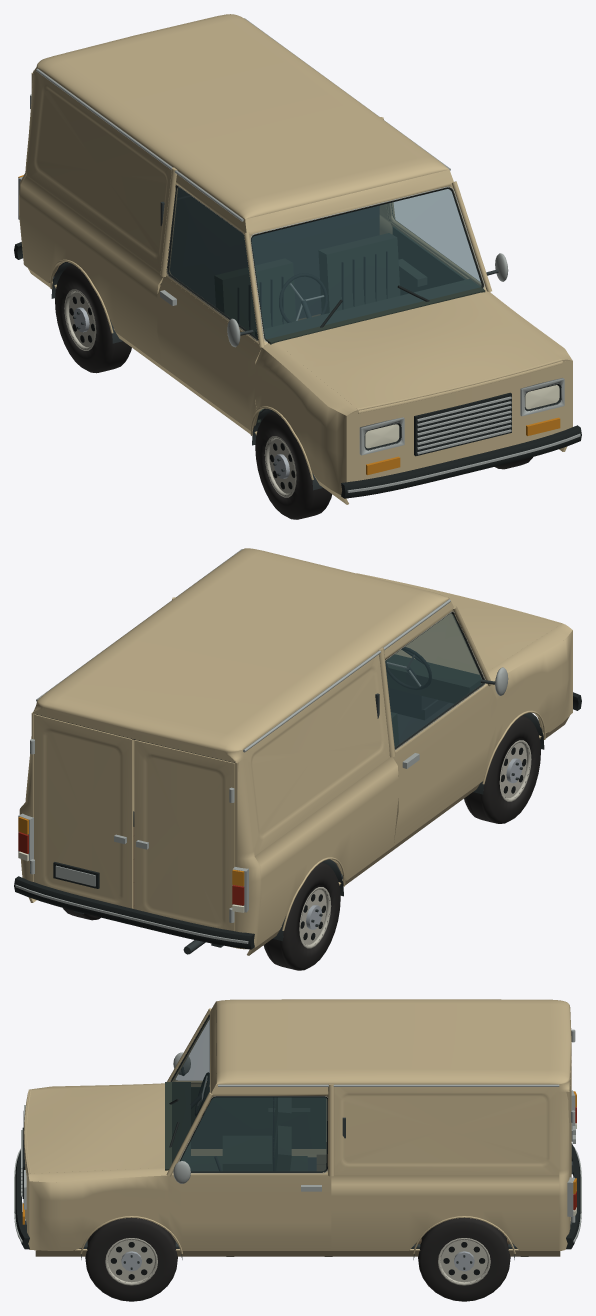
Rendered from van-candidate.glb.
The picture shows the model from 3 angles, top to bottom: view 1: azimuth 30°, elevation 25°; view 2: azimuth 150°, elevation 25°; view 3: azimuth 270°, elevation 25°; orthographic projection. The views are drawn at different scales.
Visible parts, largest first — view 1: panel_RoofVan, glass_FrontVan, panel_hoodVan, panel_CargoBlankVanL, panel_CargoSideVanL, Structure cab bulkhead Van, panel_FrontValanceVan, panel_BodyDoorLVanSkin, glass_BodyDoorLVan, panel_FrontWingVanL, Interior Carrier seat back 1, Interior Carrier seat back -1 (+22 smaller); view 2: panel_RoofVan, panel_CargoDoorVanLStamping, panel_CargoDoorVanRStamping, panel_CargoBlankVanL, panel_CargoSideVanL, panel_BodyDoorLVanSkin, glass_BodyDoorLVan, panel_hoodVan, panel_FrontWingVanL, panel_bumper_rearVan, Tire_Rook_RL, Tire_Rook_FL (+16 smaller); view 3: panel_RoofVan, panel_CargoBlankVanR, panel_CargoSideVanR, panel_BodyDoorRVanSkin, panel_hoodVan, glass_BodyDoorRVan, panel_FrontWingVanR, panel_BodyDoorLVanInnerCard, Tire_Rook_FR, Tire_Rook_RR, glass_FrontVan, panel_SillVanR (+22 smaller).
Boxes of the visible parts, bbox=[...] form: panel_RoofVan: bbox=[37, 14, 448, 219]; glass_FrontVan: bbox=[251, 189, 481, 339]; panel_hoodVan: bbox=[276, 293, 562, 410]; panel_CargoBlankVanL: bbox=[27, 68, 173, 272]; panel_CargoSideVanL: bbox=[20, 175, 163, 365]; Structure cab bulkhead Van: bbox=[160, 195, 379, 318]; panel_FrontValanceVan: bbox=[346, 361, 572, 482]; panel_BodyDoorLVanSkin: bbox=[157, 277, 261, 430]; glass_BodyDoorLVan: bbox=[169, 187, 257, 337]; panel_FrontWingVanL: bbox=[255, 348, 347, 498]; Interior Carrier seat back 1: bbox=[318, 233, 400, 313]; Interior Carrier seat back -1: bbox=[214, 258, 296, 335]; panel_RoofVan: bbox=[37, 548, 448, 753]; panel_CargoDoorVanLStamping: bbox=[134, 740, 234, 931]; panel_CargoDoorVanRStamping: bbox=[34, 714, 133, 908]; panel_CargoBlankVanL: bbox=[243, 650, 389, 855]; panel_CargoSideVanL: bbox=[254, 757, 398, 946]; panel_BodyDoorLVanSkin: bbox=[393, 685, 496, 845]; glass_BodyDoorLVan: bbox=[385, 613, 481, 746]; panel_hoodVan: bbox=[358, 573, 561, 674]; panel_FrontWingVanL: bbox=[491, 630, 572, 747]; panel_bumper_rearVan: bbox=[14, 876, 254, 949]; Tire_Rook_RL: bbox=[263, 862, 340, 970]; Tire_Rook_FL: bbox=[464, 715, 540, 823]; panel_RoofVan: bbox=[216, 999, 571, 1084]; panel_CargoBlankVanR: bbox=[334, 1084, 559, 1175]; panel_CargoSideVanR: bbox=[331, 1175, 559, 1250]; panel_BodyDoorRVanSkin: bbox=[168, 1175, 331, 1250]; panel_hoodVan: bbox=[24, 1085, 164, 1175]; glass_BodyDoorRVan: bbox=[181, 1097, 327, 1171]; panel_FrontWingVanR: bbox=[29, 1175, 168, 1250]; panel_BodyDoorLVanInnerCard: bbox=[191, 1087, 326, 1148]; Tire_Rook_FR: bbox=[85, 1217, 177, 1301]; Tire_Rook_RR: bbox=[418, 1217, 510, 1301]; glass_FrontVan: bbox=[172, 1017, 209, 1162]; panel_SillVanR: bbox=[35, 1249, 560, 1256].
Bounding box in the file's own units: 2.15 × 1.97 × 4.61.
